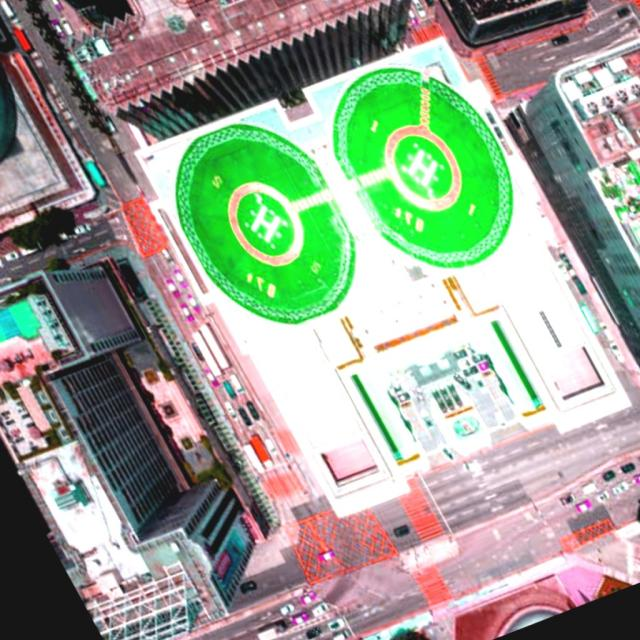helipad: (379, 124, 462, 212), (224, 179, 305, 267)
